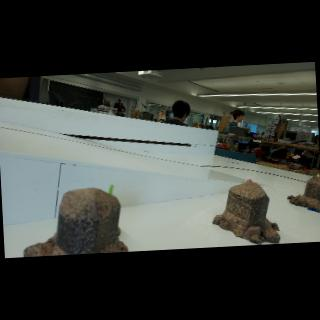teletubby: (109, 185, 114, 195), (247, 179, 252, 183), (317, 174, 319, 177)
